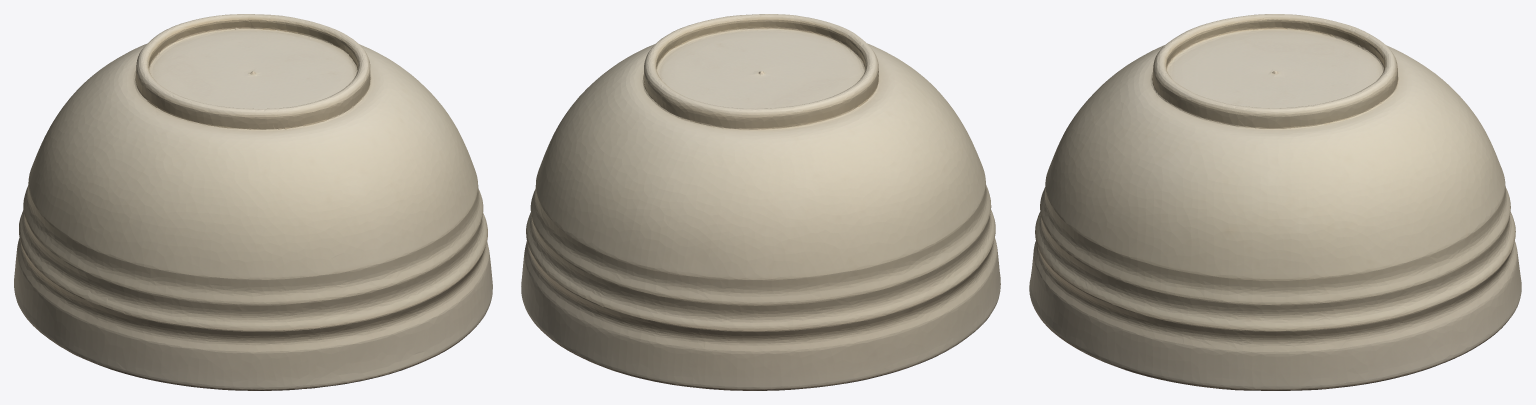
The picture shows the model from 3 angles, left to right: view 1: azimuth 30°, elevation 25°; view 2: azimuth 150°, elevation 25°; view 3: azimuth 270°, elevation 25°; orthographic projection.
Visible parts, largest first — view 1: geometry_0; view 2: geometry_0; view 3: geometry_0.
Part boxes in pixels (left/top/right/bottom): geometry_0: left=14, top=14, right=492, bottom=390; geometry_0: left=521, top=14, right=1000, bottom=390; geometry_0: left=1029, top=14, right=1521, bottom=390.
Size of the model in its own units: 0.1575 by 0.0836 by 0.1624.
1 material, 1 textured.
